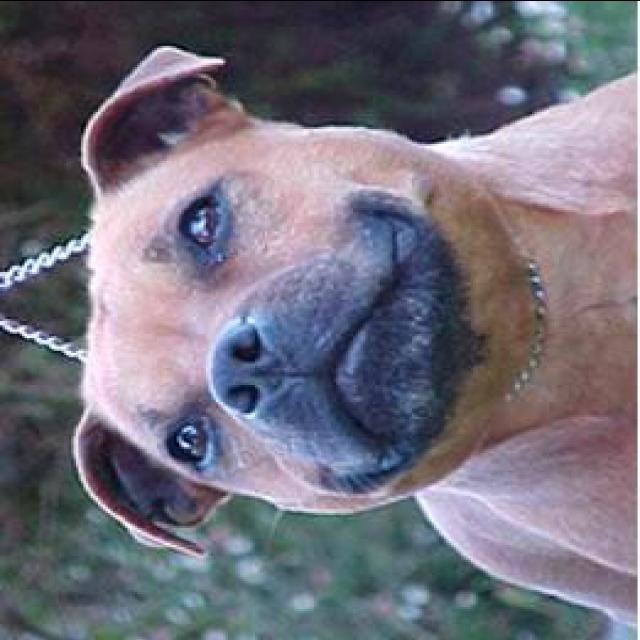staffordshire_bullterrier: (68, 43, 638, 629)
